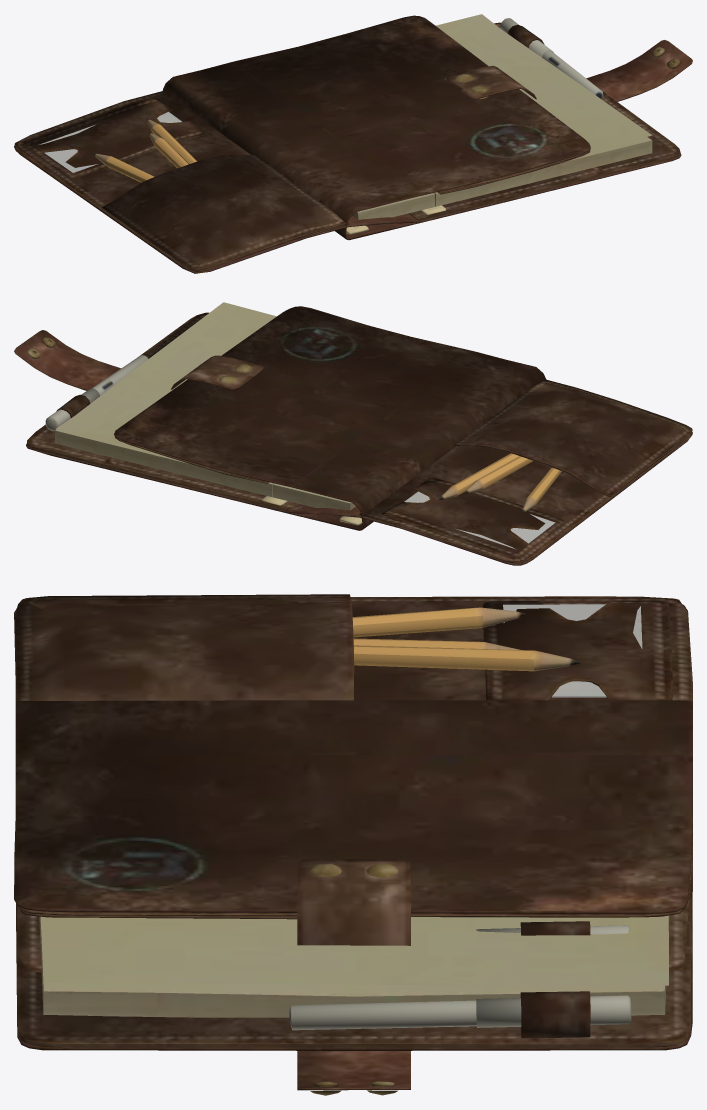
Rendered from notebooks.glb.
The picture shows the model from 3 angles, top to bottom: view 1: azimuth 30°, elevation 25°; view 2: azimuth 150°, elevation 25°; view 3: azimuth 270°, elevation 25°; orthographic projection. The views are drawn at different scales.
Parts seen in each view (by area): view 1: binder_notebook_closed, binder_notebook; view 2: binder_notebook_closed, binder_notebook; view 3: binder_notebook, binder_notebook_closed.
Boxes of the visible parts, box(x1,y1,x2,y2) form: binder_notebook_closed: box(162, 15, 602, 240); binder_notebook: box(14, 14, 692, 273); binder_notebook_closed: box(105, 306, 546, 530); binder_notebook: box(14, 302, 692, 565); binder_notebook: box(14, 594, 692, 1095); binder_notebook_closed: box(14, 700, 692, 972).
Size of the model in its own units: 0.3651 by 0.0252 by 0.1997.
Materials: 1 (1 with a texture image).
